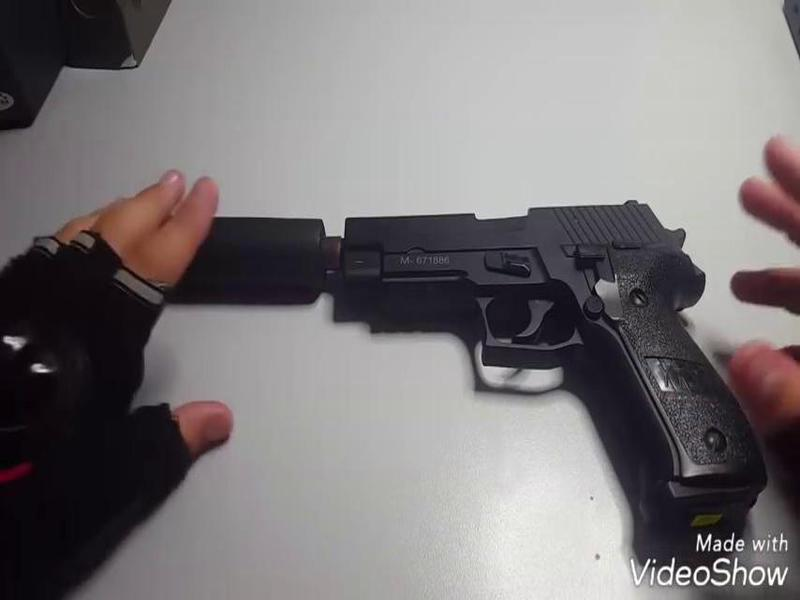Pistola: (338, 192, 767, 524)
